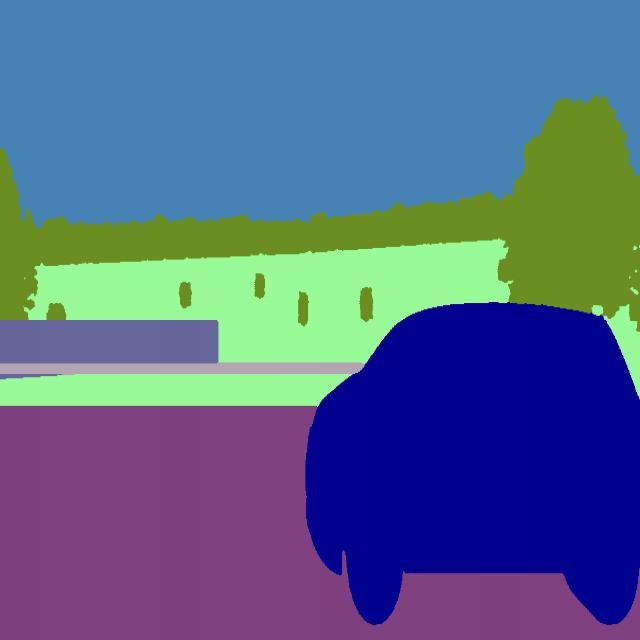unsafe: (301, 294, 640, 630)
